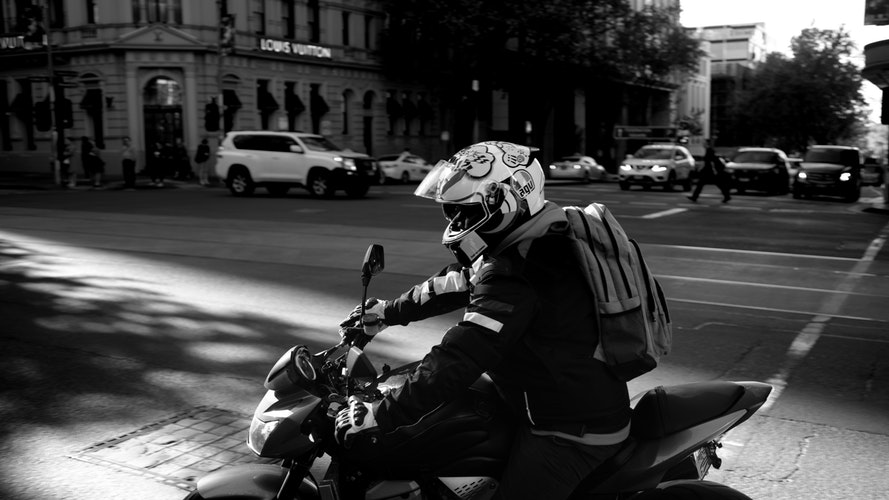helmet: (433, 125, 534, 252)
